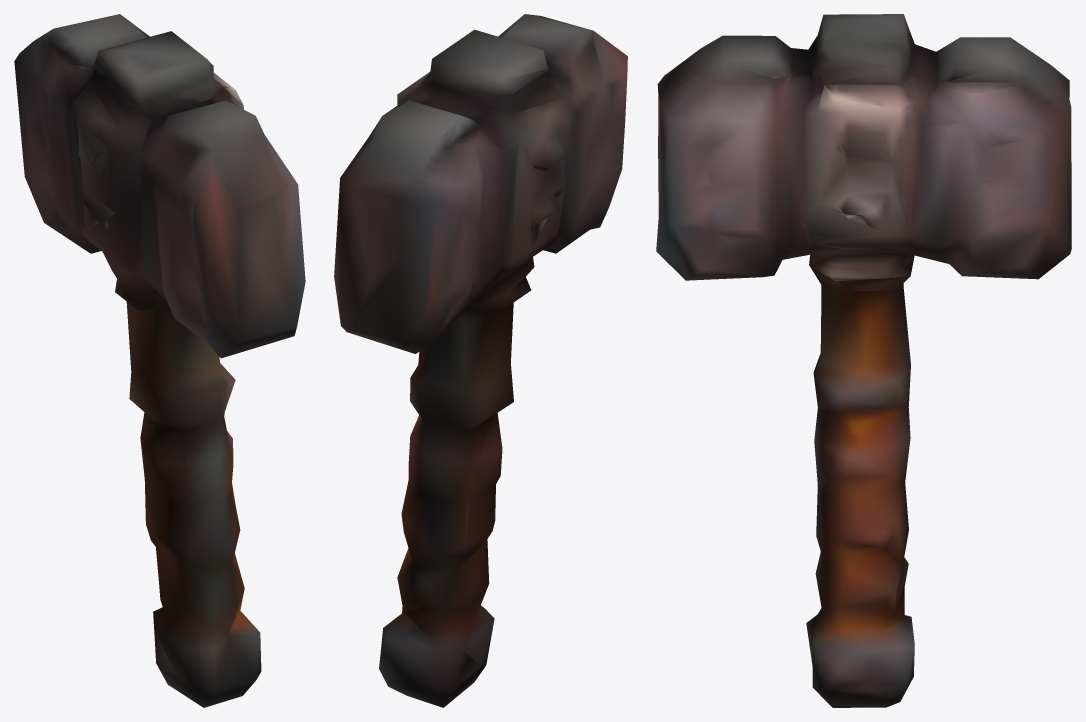
Rendered from mace_2h_silver.glb.
3 views of the same model, side by side, from view 1: azimuth 30°, elevation 25°; view 2: azimuth 150°, elevation 25°; view 3: azimuth 270°, elevation 25° (orthographic).
Parts seen in each view (by area): view 1: model; view 2: model; view 3: model.
Boxes of the visible parts, x1,y1,x2,y2 form: model: (14, 14, 305, 707); model: (334, 14, 627, 707); model: (656, 14, 1071, 707).
Bounding box in the file's own units: 0.3571 × 1.4 × 0.8084.
Materials: 1 (1 with a texture image).
